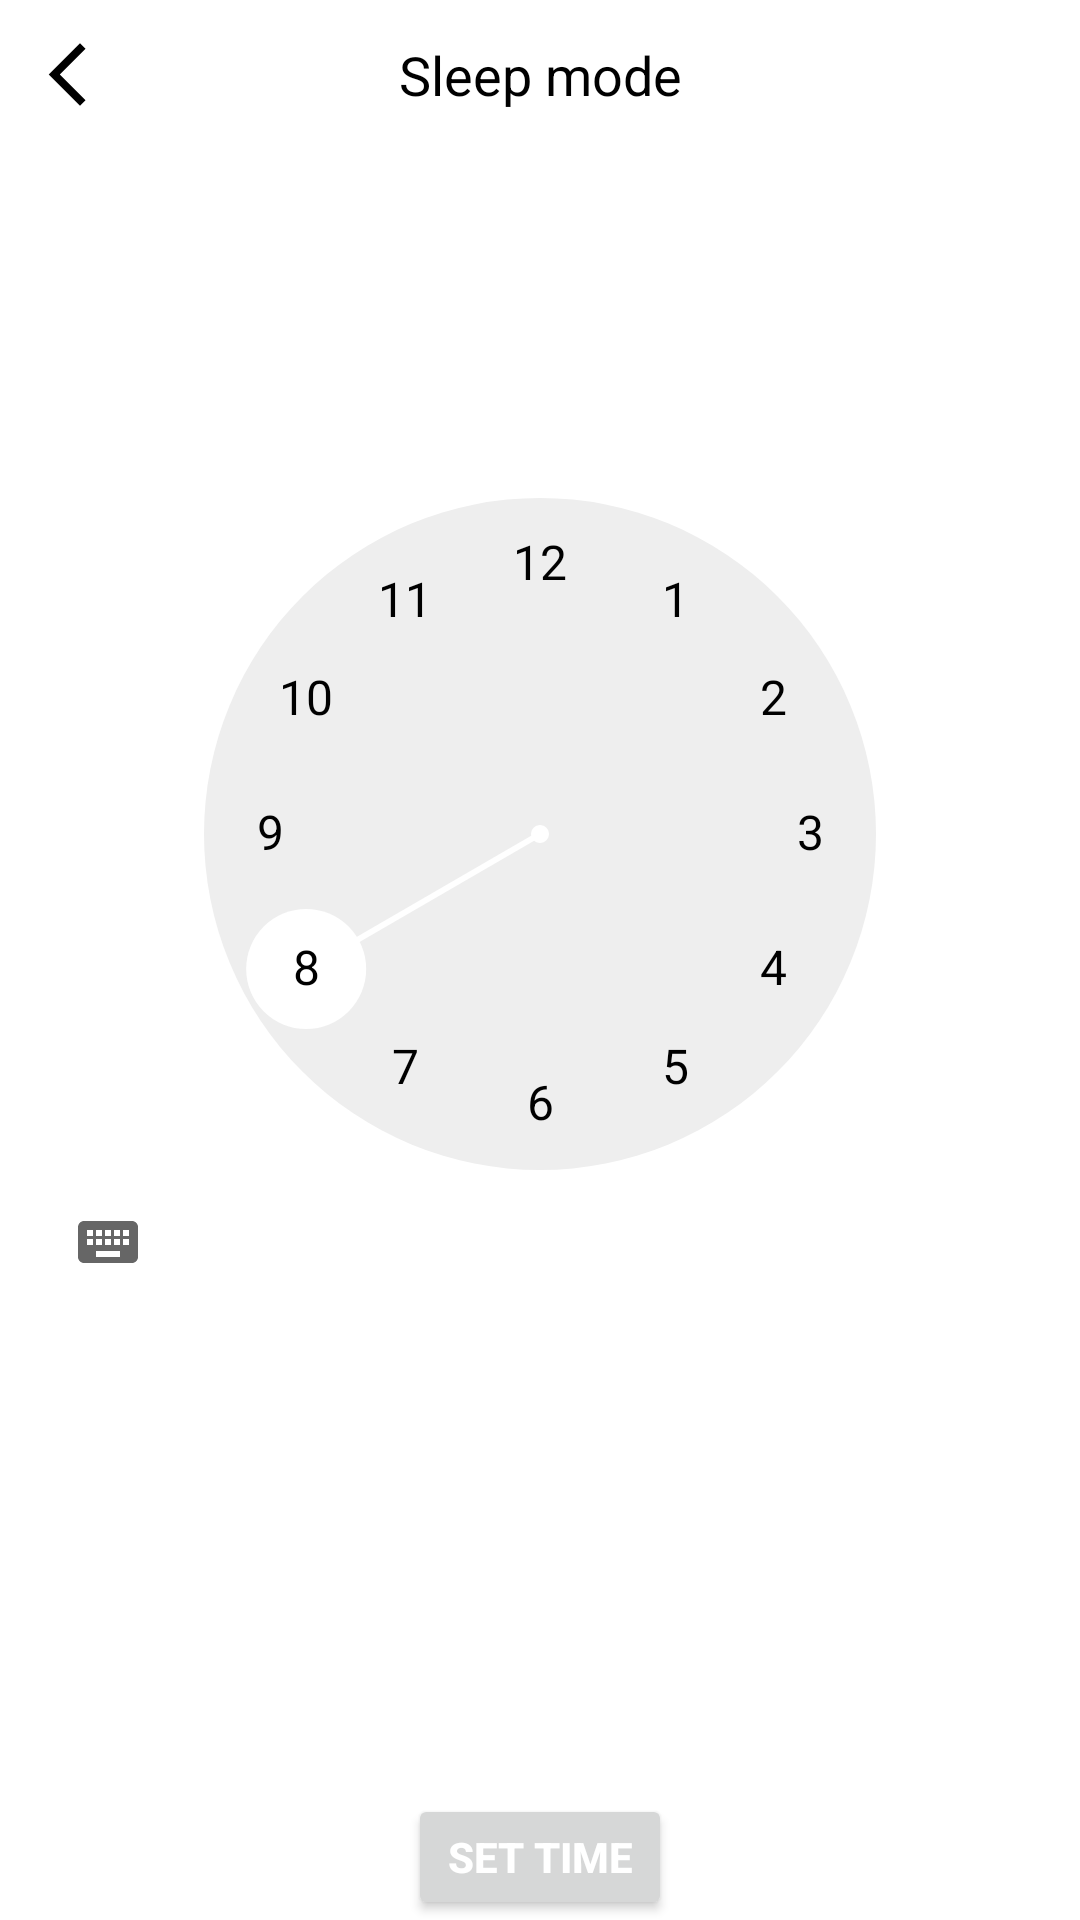

Where icons sit on this 1080w x 1920h app screen, as (x1, y1, x2, y2):
arrow back: (49, 43, 86, 106)
